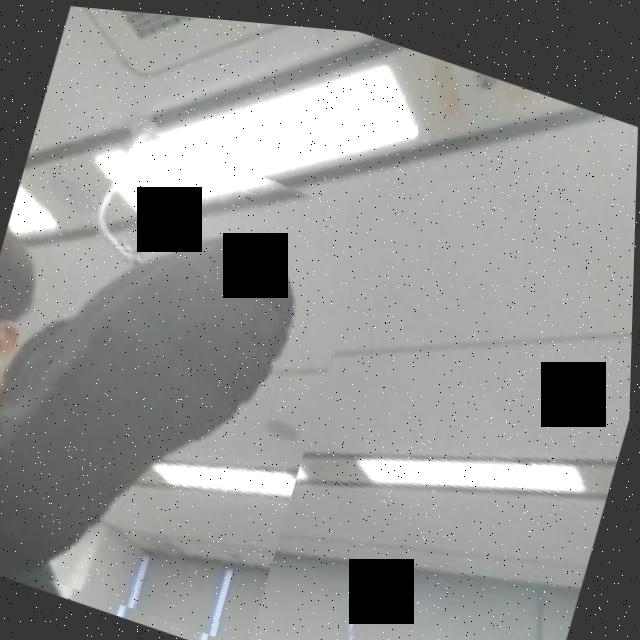shoe: (0, 94, 377, 640)
